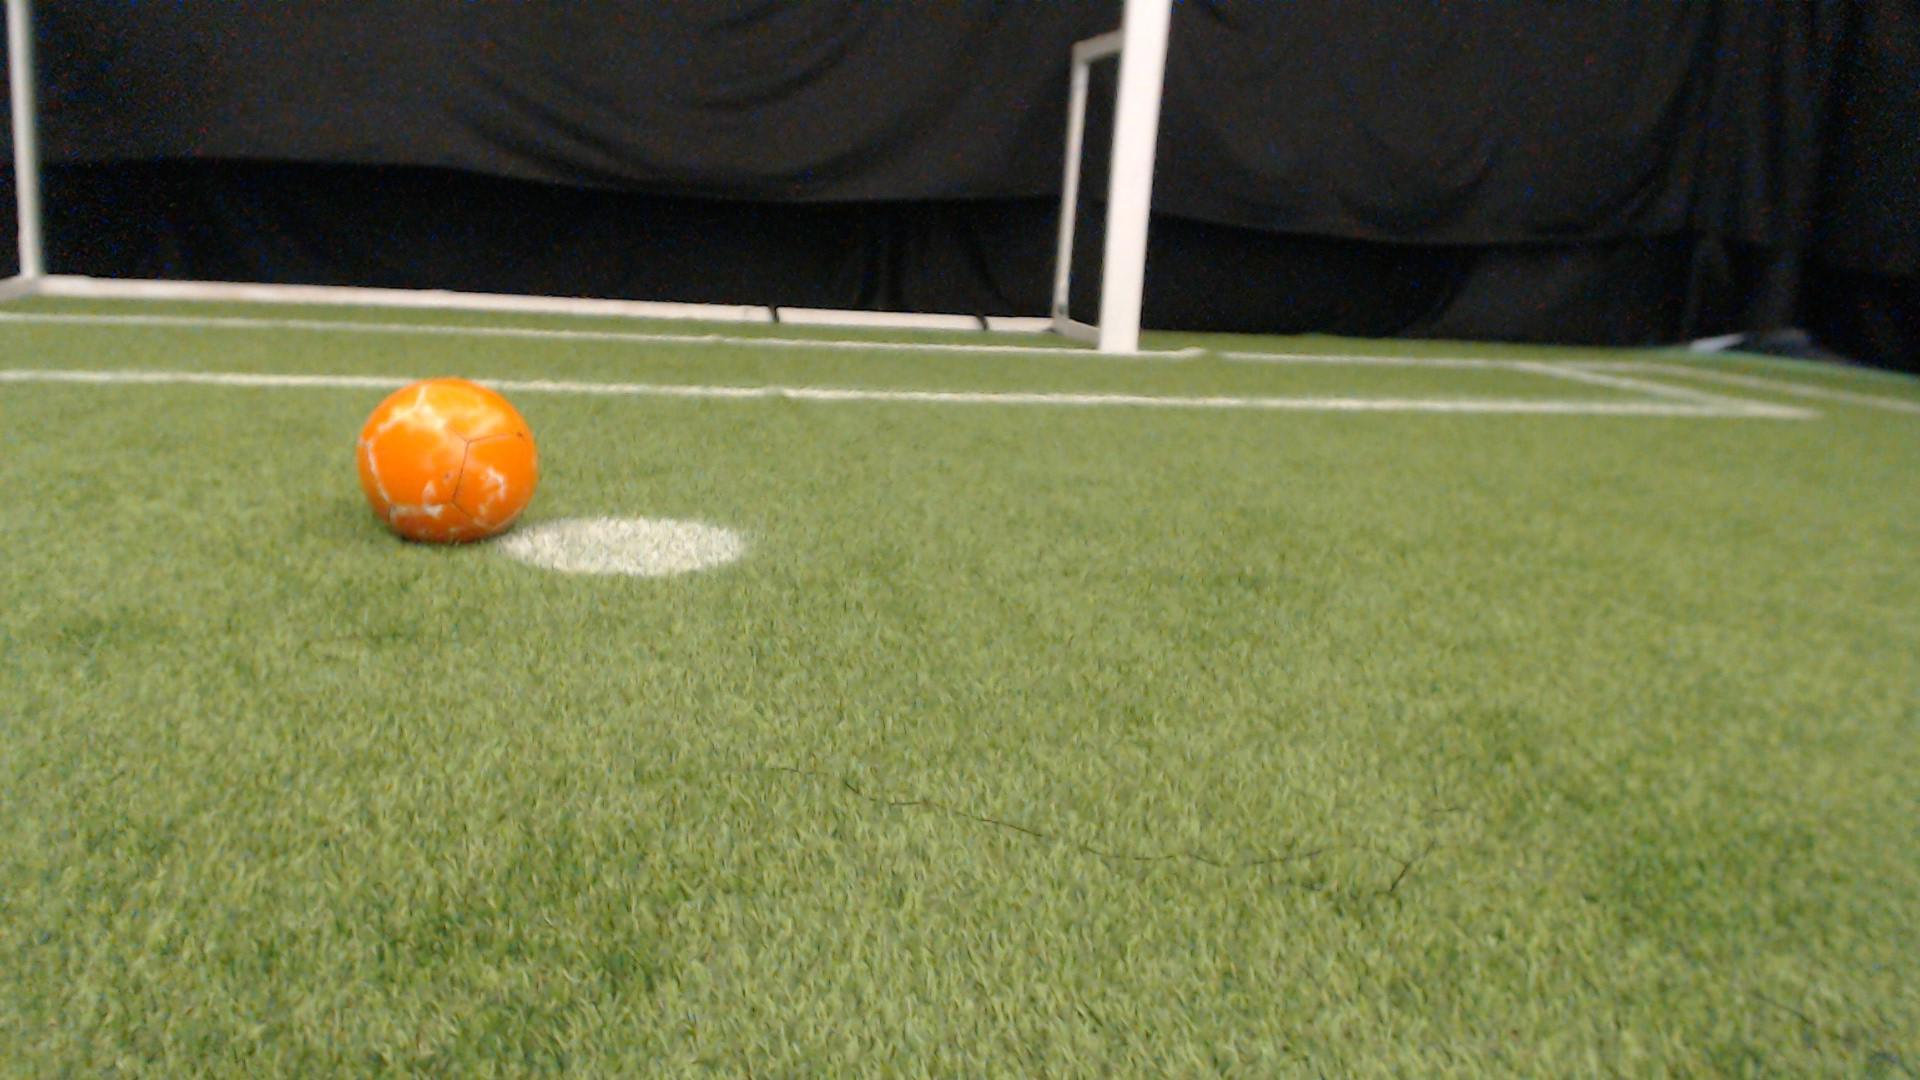bola: (338, 356, 553, 572)
